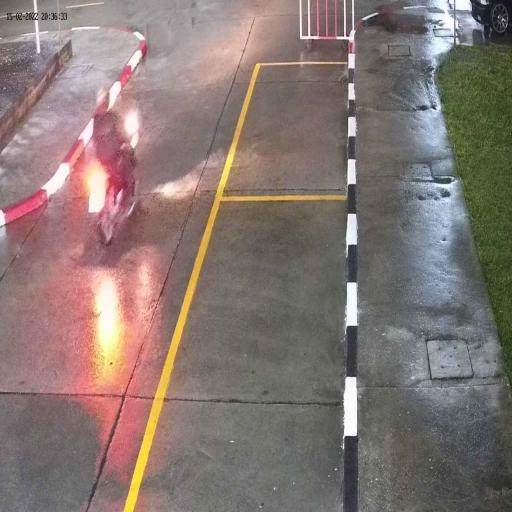motorcycle: (88, 126, 140, 247)
